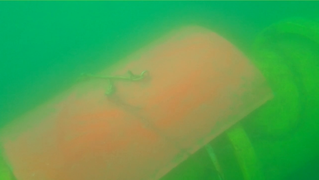leak: (1, 22, 274, 180)
pipe: (158, 16, 319, 179), (1, 153, 18, 180)
